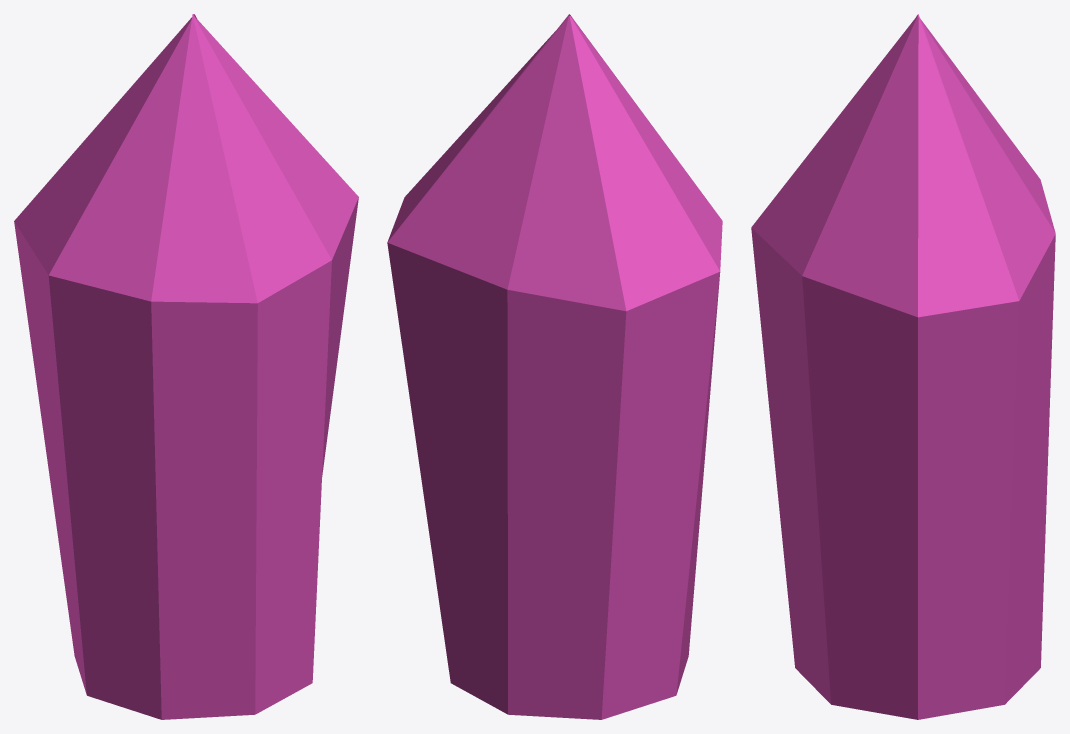
The picture shows the model from 3 angles, left to right: view 1: azimuth 30°, elevation 25°; view 2: azimuth 150°, elevation 25°; view 3: azimuth 270°, elevation 25°; orthographic projection.
Visible parts, largest first — view 1: Circle; view 2: Circle; view 3: Circle.
Boxes of the visible parts, x1,y1,x2,y2 form: Circle: (14,14,358,719); Circle: (387,14,722,719); Circle: (751,14,1055,719).
Bounding box in the file's own units: 147 × 294 × 124.
